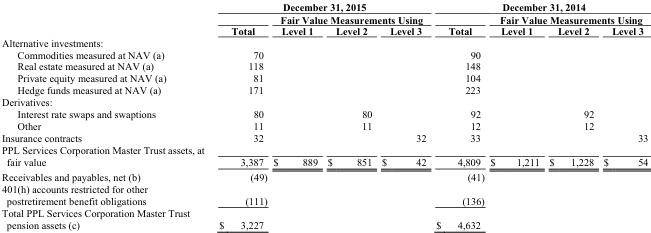table: (1, 1, 647, 230)
table column: (1, 1, 191, 230), (191, 1, 269, 230), (486, 1, 543, 230), (430, 1, 486, 230), (321, 1, 376, 230), (543, 1, 598, 230), (376, 1, 430, 230), (269, 1, 321, 230), (598, 1, 647, 230)
table column header: (1, 1, 647, 36)
table projected row header: (1, 36, 647, 48), (1, 95, 647, 107), (1, 143, 647, 155), (1, 182, 647, 194), (1, 206, 647, 218)
table row: (1, 155, 647, 169), (1, 169, 647, 182), (1, 1, 647, 13), (1, 13, 647, 25), (1, 36, 647, 48), (1, 48, 647, 60), (1, 71, 647, 83), (1, 83, 647, 95), (1, 95, 647, 107), (1, 107, 647, 119), (1, 119, 647, 131), (1, 131, 647, 143), (1, 143, 647, 155), (1, 182, 647, 194), (1, 194, 647, 206), (1, 206, 647, 218), (1, 218, 647, 230), (1, 25, 647, 36), (1, 60, 647, 71)
table spanning cell: (191, 1, 430, 13), (430, 1, 647, 13), (269, 13, 430, 25), (486, 13, 647, 25), (191, 13, 269, 36), (430, 13, 486, 36)
